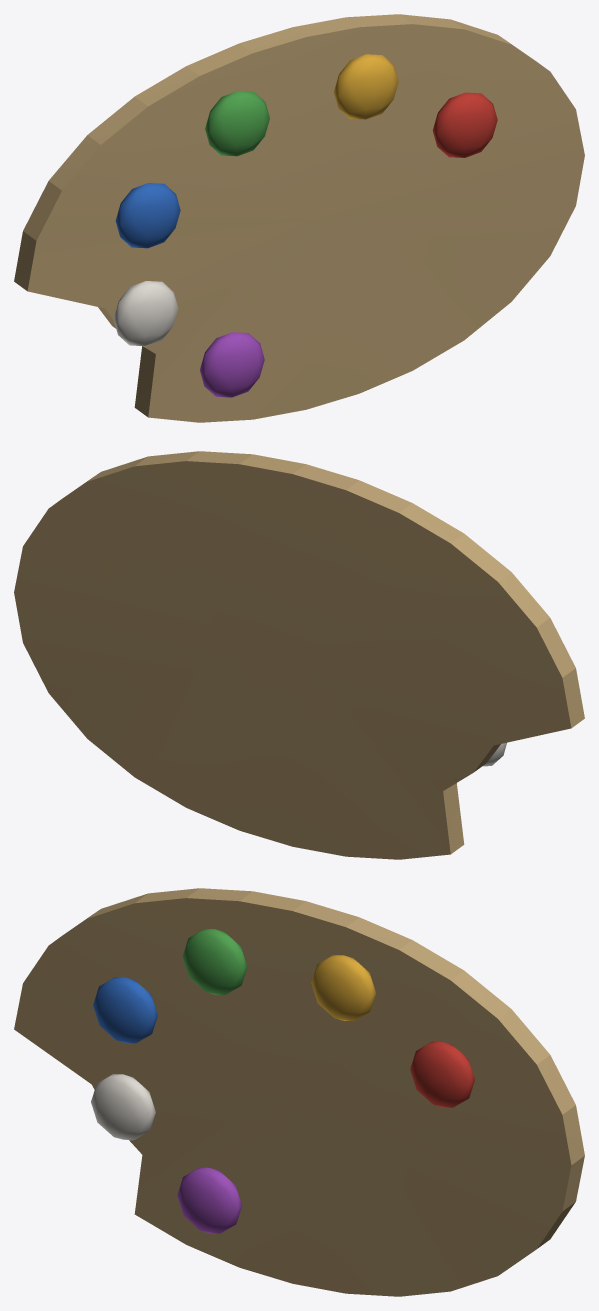
The model's file is style_palette.glb.
3 renders of one model, top to bottom at view 1: azimuth 30°, elevation 25°; view 2: azimuth 150°, elevation 25°; view 3: azimuth 330°, elevation 25°, orthographic.
Parts seen in each view (by area): view 1: style_palette_main; view 2: style_palette_main; view 3: style_palette_main.
Boxes of the visible parts, x1=… form: style_palette_main: x1=14, y1=14, x2=584, y2=422; style_palette_main: x1=14, y1=451, x2=584, y2=859; style_palette_main: x1=14, y1=888, x2=584, y2=1296.
Bounding box in the file's own units: 0.2851 × 0.1822 × 0.024.
